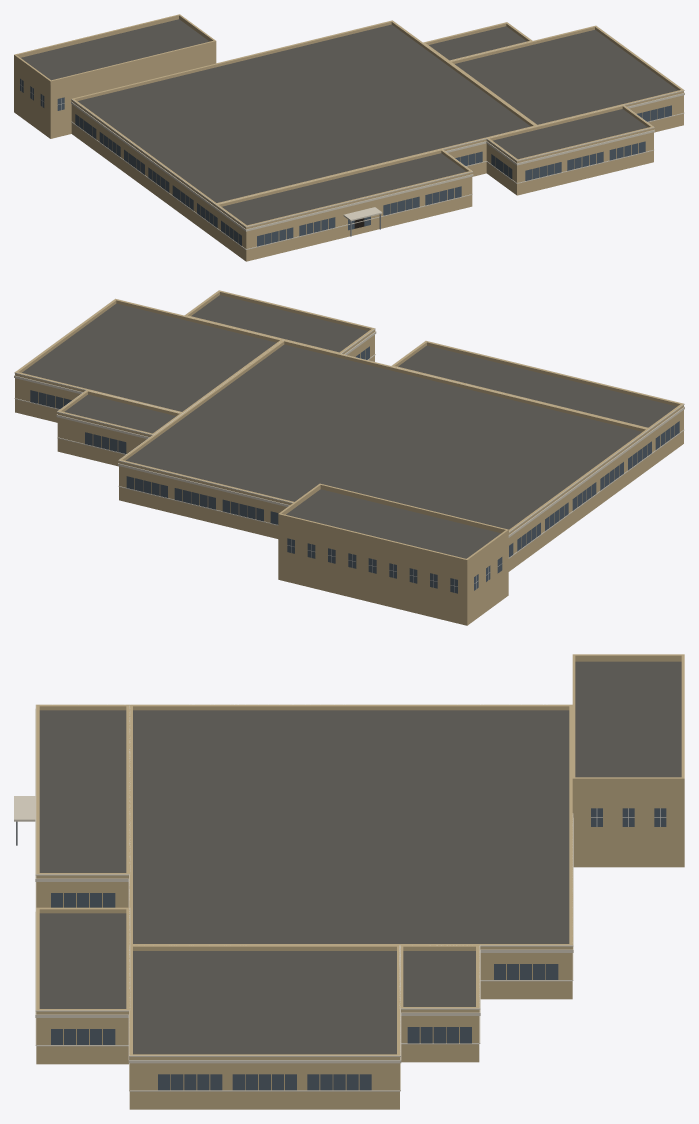
File: mabelvale-elementary.glb
3 views of the same model, one above another, from view 1: azimuth 30°, elevation 25°; view 2: azimuth 150°, elevation 25°; view 3: azimuth 270°, elevation 25° (orthographic). The views are drawn at different scales.
Visible parts, largest first — view 1: mabelvale_elementary; view 2: mabelvale_elementary; view 3: mabelvale_elementary.
Boxes of the visible parts, x1=… form: mabelvale_elementary: x1=14, y1=14, x2=684, y2=261; mabelvale_elementary: x1=14, y1=290, x2=684, y2=625; mabelvale_elementary: x1=14, y1=654, x2=684, y2=1109.
Size of the model in its own units: 93.16 by 10.48 by 71.94.
